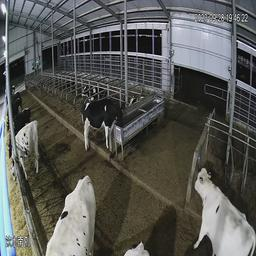cow: (175, 142, 249, 254), (42, 166, 103, 254), (79, 95, 128, 153), (8, 118, 42, 184), (7, 103, 29, 126)
